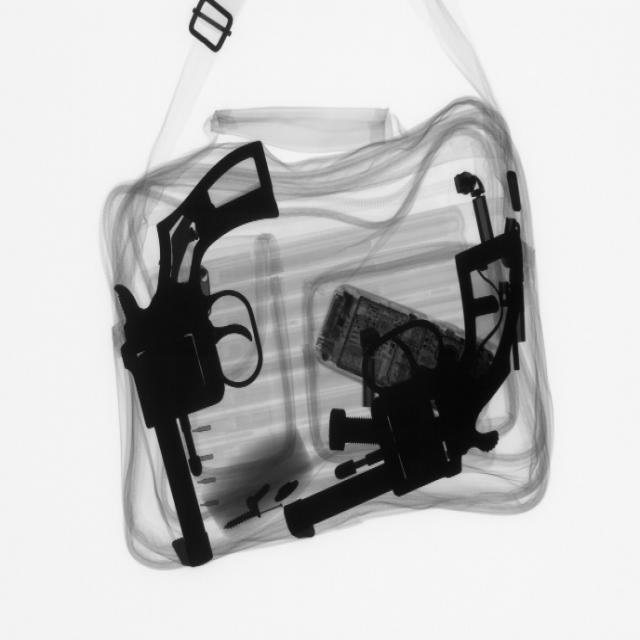GUN: (101, 127, 279, 581), (286, 236, 523, 547)
